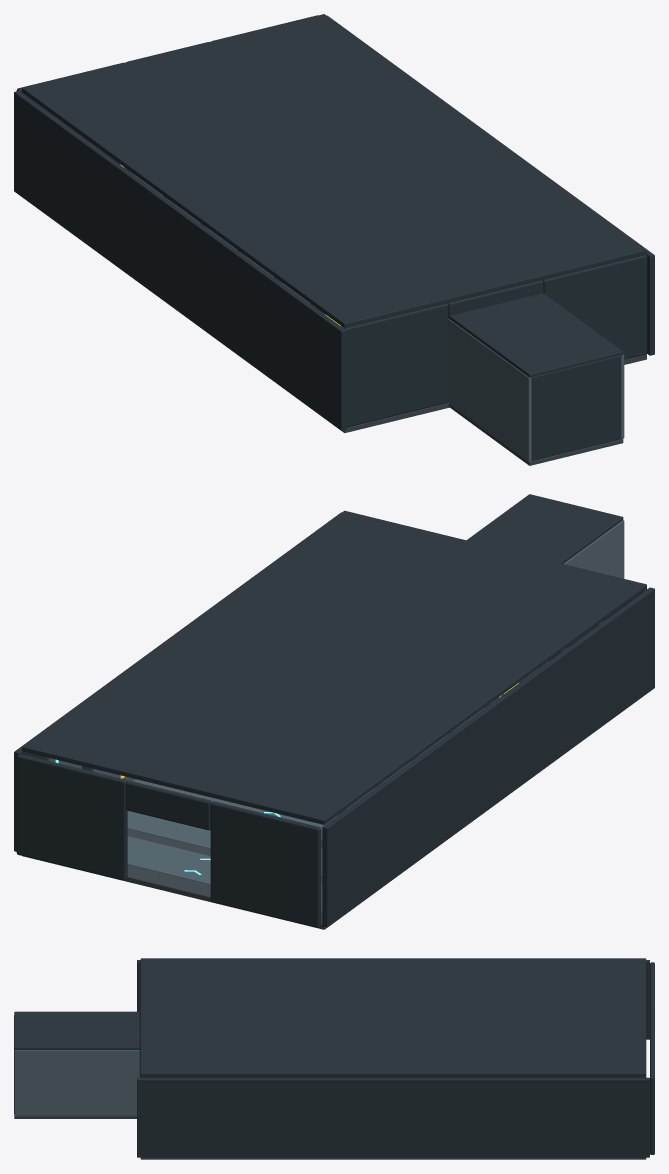
File: GateLab_Form_v0.1.fbx
The picture shows the model from 3 angles, top to bottom: view 1: azimuth 30°, elevation 25°; view 2: azimuth 150°, elevation 25°; view 3: azimuth 270°, elevation 25°; orthographic projection. The views are drawn at different scales.
Visible parts, largest first — view 1: Ceiling, Wall_W, NorthWall_L, SectorBCeiling, SectorBPortal, SectorBWallL, NorthWall_R, NorthWall_Top, Wall_E, SectorBFloor, Floor; view 2: Ceiling, Wall_W, SouthWall_L, SouthWall_R, SectorBCeiling, SouthWall_Top, Floor, FloorPanel_+11, SectorBWallL, FloorPanel_+8, Wall_E, FloorPanel_+5; view 3: Ceiling, Wall_E, SectorBWallR, SectorBCeiling, Floor, SouthWall_R, Wall_W, SectorBFloor.
Part boxes in pixels (bbox=[...]): Ceiling: bbox=[22, 14, 646, 328]; Wall_W: bbox=[14, 91, 346, 430]; NorthWall_L: bbox=[343, 303, 448, 427]; SectorBCeiling: bbox=[449, 293, 623, 377]; SectorBPortal: bbox=[531, 355, 621, 460]; SectorBWallL: bbox=[448, 319, 531, 461]; NorthWall_R: bbox=[542, 255, 647, 359]; NorthWall_Top: bbox=[447, 280, 543, 318]; Wall_E: bbox=[327, 15, 654, 355]; SectorBFloor: bbox=[448, 403, 623, 465]; Floor: bbox=[124, 167, 646, 432]; Ceiling: bbox=[22, 510, 646, 824]; Wall_W: bbox=[322, 587, 654, 927]; SouthWall_L: bbox=[210, 801, 321, 927]; SouthWall_R: bbox=[16, 754, 127, 880]; SectorBCeiling: bbox=[467, 494, 623, 563]; SouthWall_Top: bbox=[126, 780, 211, 830]; Floor: bbox=[22, 668, 538, 929]; FloorPanel_+11: bbox=[127, 836, 322, 911]; SectorBWallL: bbox=[564, 520, 624, 578]; FloorPanel_+8: bbox=[127, 811, 322, 875]; Wall_E: bbox=[14, 512, 341, 851]; FloorPanel_+5: bbox=[133, 779, 337, 840]; Ceiling: bbox=[140, 958, 646, 1077]; Wall_E: bbox=[137, 1077, 649, 1157]; SectorBWallR: bbox=[14, 1050, 139, 1115]; SectorBCeiling: bbox=[14, 1011, 139, 1049]; Floor: bbox=[140, 1077, 646, 1159]; SouthWall_R: bbox=[650, 1036, 654, 1154]; Wall_W: bbox=[137, 960, 649, 1039]; SectorBFloor: bbox=[14, 1116, 136, 1118].
Size of the model in its own units: 1482 by 495 by 3348.
